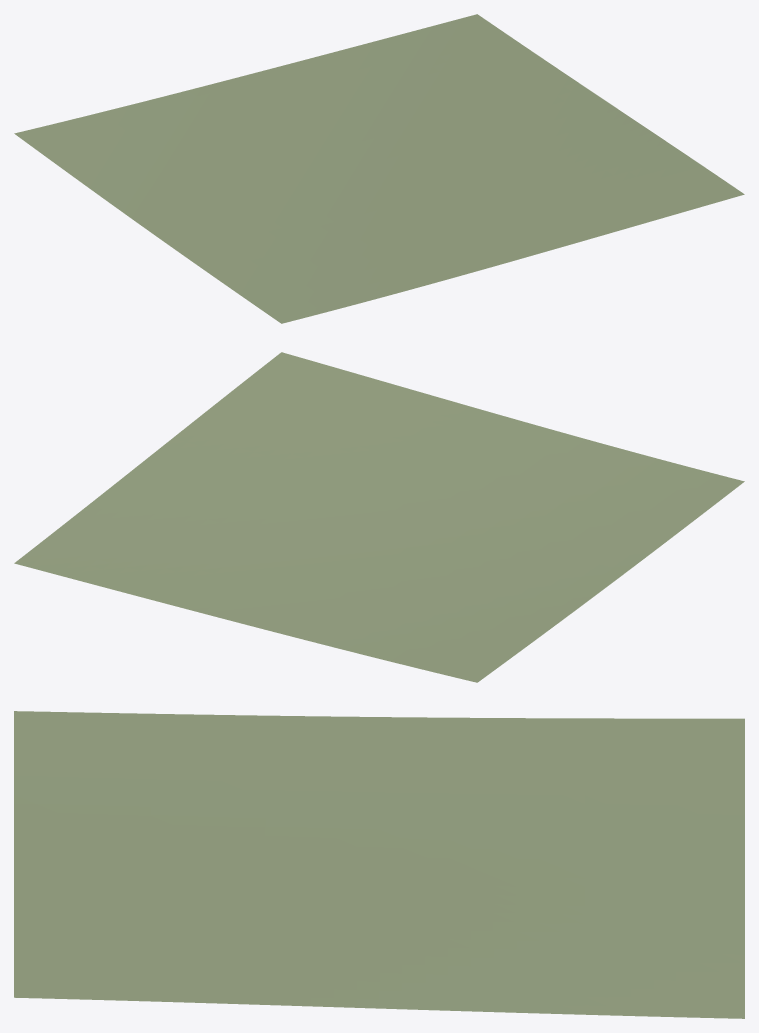
The model's file is expanse-2-27.glb.
The picture shows the model from 3 angles, top to bottom: view 1: azimuth 30°, elevation 25°; view 2: azimuth 150°, elevation 25°; view 3: azimuth 270°, elevation 25°; orthographic projection. The views are drawn at different scales.
Visible parts, largest first — view 1: expanse-2-27; view 2: expanse-2-27; view 3: expanse-2-27.
Part boxes in pixels (<box>): expanse-2-27: <box>14,14,744,323</box>; expanse-2-27: <box>14,352,744,682</box>; expanse-2-27: <box>14,711,744,1018</box>.
Bounding box in the file's own units: 256 × 11.58 × 256.
